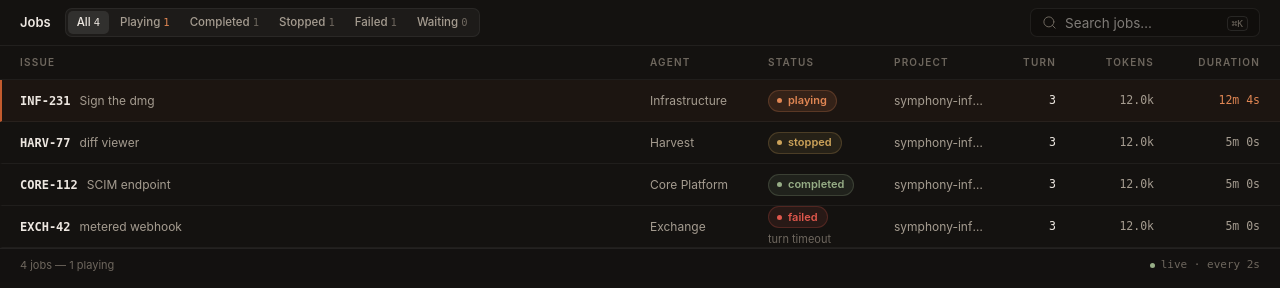
Test: JobsList › filters to playing rows via the segmented control
Click the button "Playing 1" at (145, 23), box [111,11,179,34]
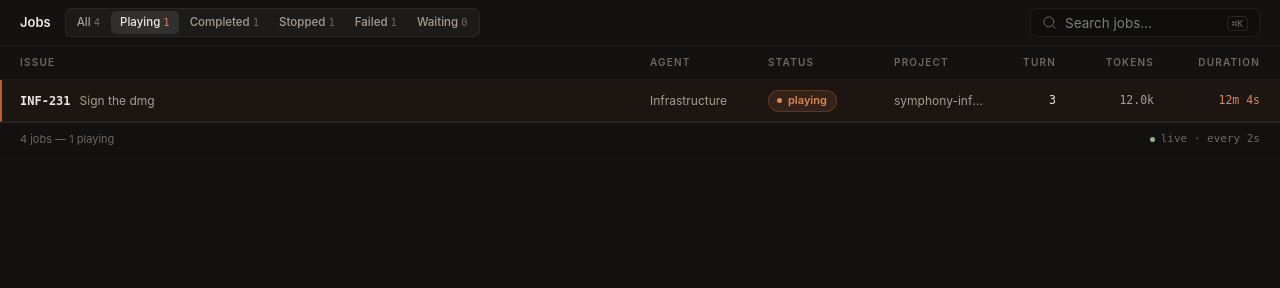
Expected: the text "INF-231" is shown, [20,92,71,110]
Result: the text "CORE-112" is gone
